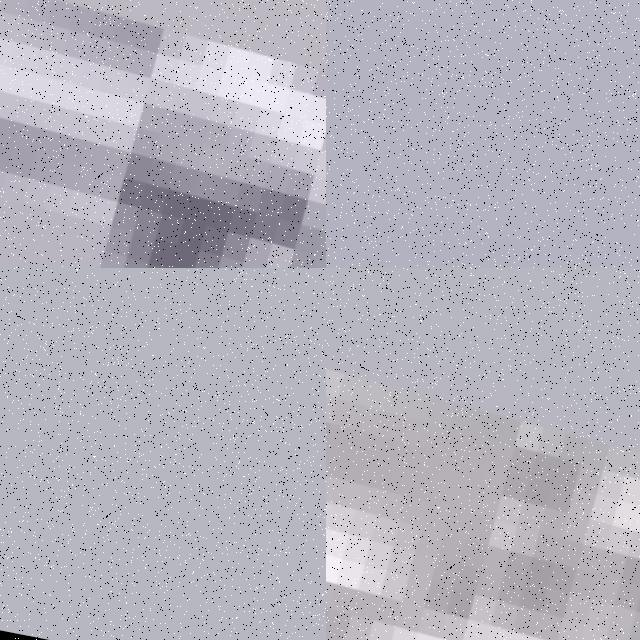drone: (326, 268, 640, 640), (0, 0, 326, 268)
